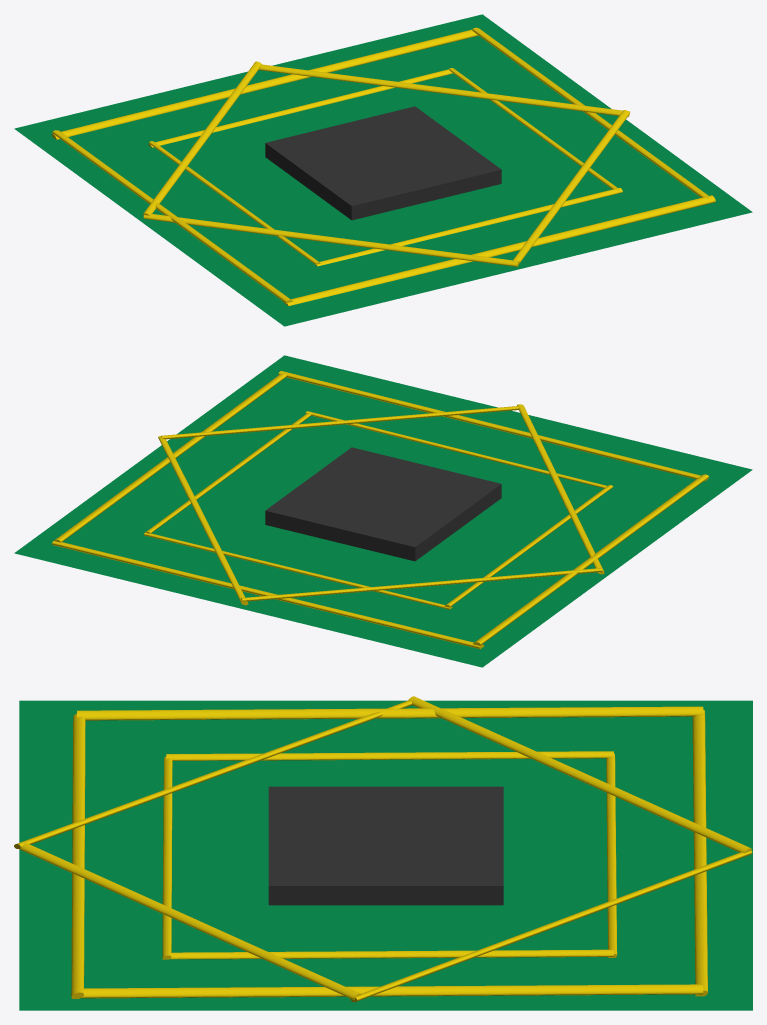
Rendered from CircuitBoard.glb.
The picture shows the model from 3 angles, top to bottom: view 1: azimuth 30°, elevation 25°; view 2: azimuth 150°, elevation 25°; view 3: azimuth 270°, elevation 25°; orthographic projection. The views are drawn at different scales.
Parts seen in each view (by area): view 1: Plane, Cube, Cylinder.001, Cylinder.003, Cylinder.002; view 2: Plane, Cube, Cylinder.001, Cylinder.003, Cylinder.002; view 3: Plane, Cube, Cylinder.001, Cylinder.003, Cylinder.002.
Part boxes in pixels (x1=…): Plane: x1=14, y1=14, x2=752, y2=326; Cube: x1=265, y1=106, x2=501, y2=220; Cylinder.001: x1=52, y1=27, x2=715, y2=306; Cylinder.003: x1=143, y1=61, x2=629, y2=266; Cylinder.002: x1=148, y1=68, x2=622, y2=266; Plane: x1=14, y1=355, x2=752, y2=667; Cube: x1=265, y1=447, x2=501, y2=561; Cylinder.001: x1=52, y1=371, x2=708, y2=649; Cylinder.003: x1=158, y1=404, x2=604, y2=605; Cylinder.002: x1=144, y1=411, x2=612, y2=609; Plane: x1=19, y1=700, x2=752, y2=1010; Cube: x1=268, y1=786, x2=503, y2=905; Cylinder.001: x1=71, y1=706, x2=707, y2=998; Cylinder.003: x1=14, y1=696, x2=752, y2=1002; Cylinder.002: x1=162, y1=751, x2=617, y2=959.
Bounding box in the file's own units: 5.85 × 0.1954 × 5.87.
